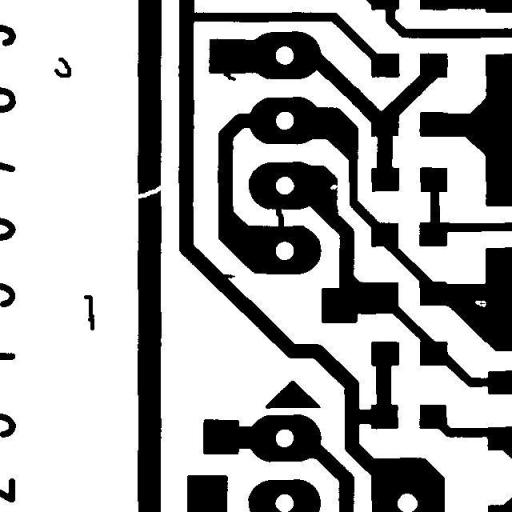copper: (76, 287, 102, 338), (46, 50, 78, 84)
mousebite: (322, 177, 346, 197)
open: (128, 178, 170, 206)
pin-hole: (467, 293, 494, 314)
short: (268, 199, 291, 236)
spur: (215, 62, 243, 88), (214, 266, 242, 286)
